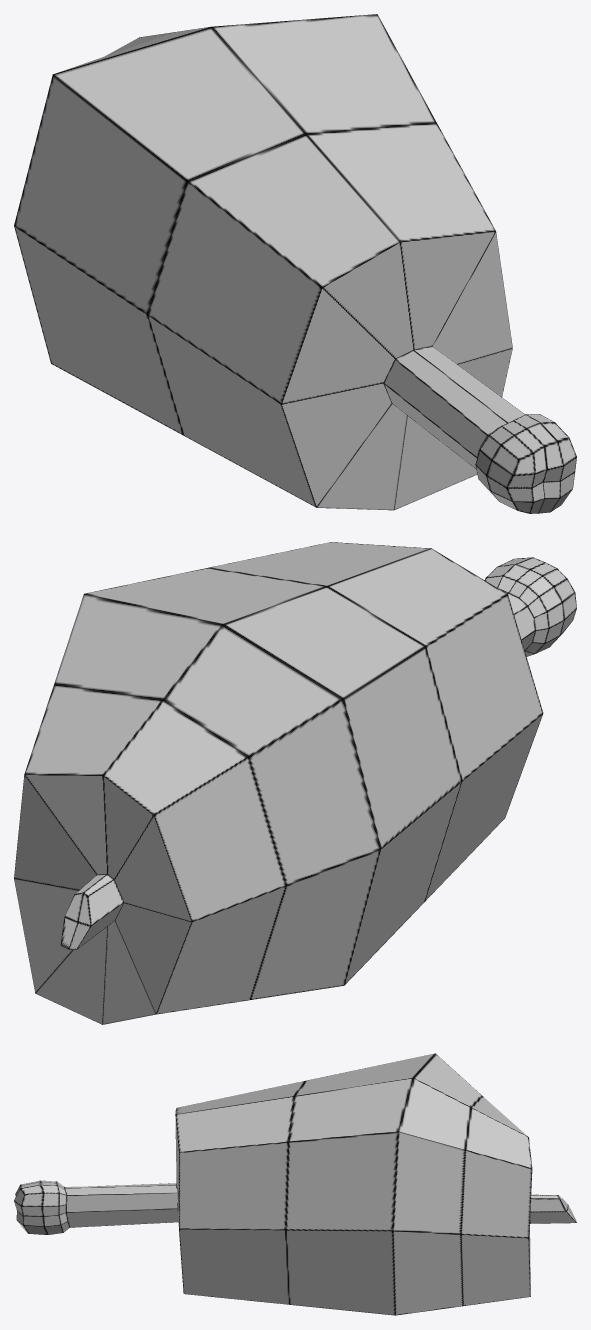
The model's file is meat.fbx.
3 views of the same model, one above another, from view 1: azimuth 30°, elevation 25°; view 2: azimuth 150°, elevation 25°; view 3: azimuth 270°, elevation 25° (orthographic). The views are drawn at different scales.
Parts seen in each view (by area): view 1: Cube; view 2: Cube; view 3: Cube.
Part boxes in pixels (<box>): Cube: <box>14,14,576,513</box>; Cube: <box>14,542,576,1024</box>; Cube: <box>14,1053,576,1315</box>.
Bounding box in the file's own units: 209 × 190 × 480.
